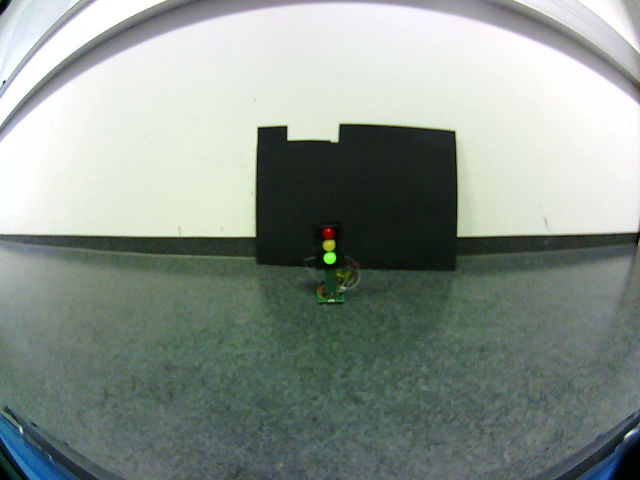green trafficlight: (319, 227, 339, 267)
